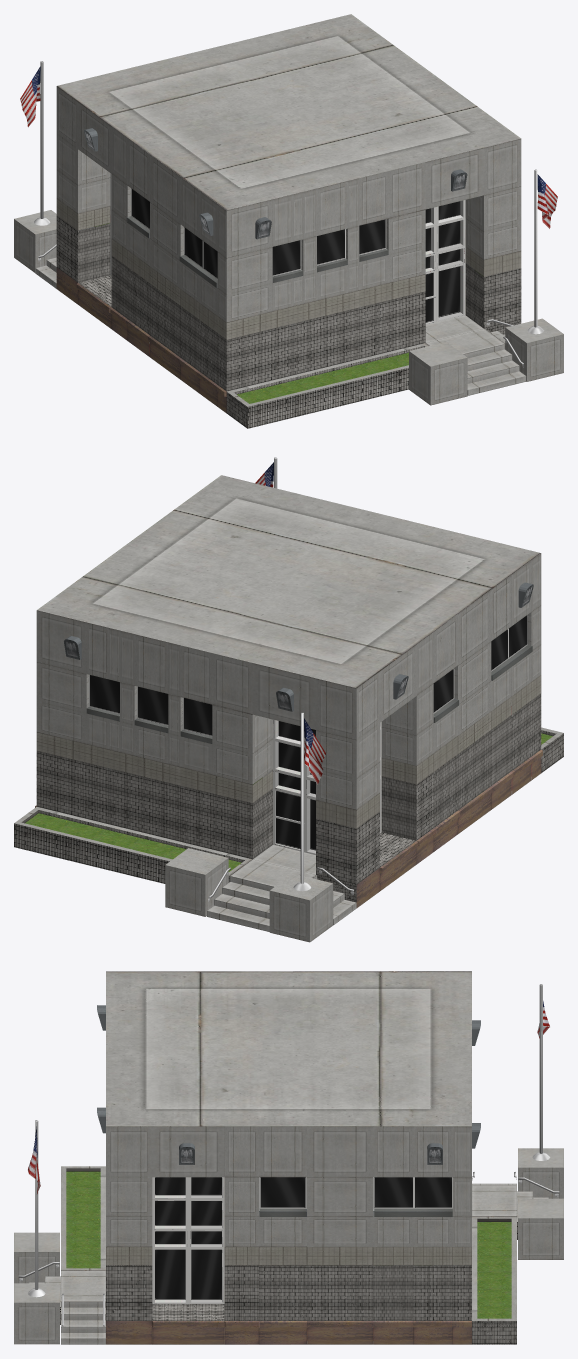
The model's file is police_station.dae.
The picture shows the model from 3 angles, top to bottom: view 1: azimuth 30°, elevation 25°; view 2: azimuth 150°, elevation 25°; view 3: azimuth 270°, elevation 25°; orthographic projection. The views are drawn at different scales.
Visible parts, largest first — view 1: PoliceStation; view 2: PoliceStation; view 3: PoliceStation.
Boxes of the visible parts, x1,y1,x2,y2 form: PoliceStation: (14, 14, 563, 428); PoliceStation: (14, 457, 563, 942); PoliceStation: (14, 971, 563, 1344).
Size of the model in its own units: 539 by 771 by 338.
